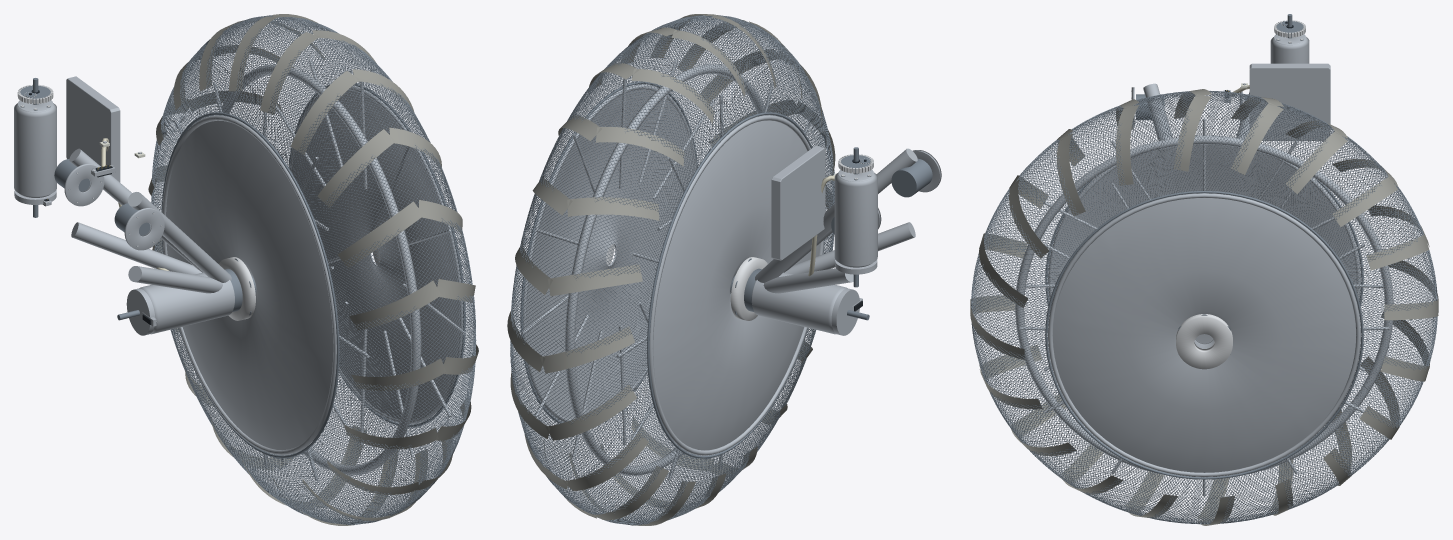
Rendered from lrv-wheels.glb.
3 renders of one model, left to right at view 1: azimuth 30°, elevation 25°; view 2: azimuth 150°, elevation 25°; view 3: azimuth 270°, elevation 25°, orthographic. The views are drawn at different scales.
Parts seen in each view (by area): view 1: WHEEL_MESH_Steel_fixings, WHEEL_INNER_DISK_Machined_aluminium, WHEEL_OUTER_DISK_Machined_aluminium, WHEEL_TRACTION_Titanium_traction_bands, WHEEL_BUMP_STOP_Machined_aluminium, SUSPENSION_MOUNT_Machined_aluminium, WHEEL_HUB_Machined_aluminium, AXLE_STEERING_MOUNT_Machined_aluminium, WHEEL_HUB_Steel_fixings, STEERING_MOTOR_REMOVABLE_SHELL_Machined_aluminium, DRIVE_MOTOR_REMOVABLE_SHELL_Machined_aluminium, BORED_FLANGE_7_Machined_aluminium (+5 smaller); view 2: WHEEL_MESH_Steel_fixings, WHEEL_INNER_DISK_Machined_aluminium, WHEEL_OUTER_DISK_Machined_aluminium, WHEEL_TRACTION_Titanium_traction_bands, WHEEL_BUMP_STOP_Machined_aluminium, AXLE_STEERING_MOUNT_Machined_aluminium, WHEEL_HUB_Machined_aluminium, SUSPENSION_MOUNT_Machined_aluminium, STEERING_MOTOR_FIXED_SHELL_Machined_aluminium, DRIVE_MOTOR_FIXED_SHELL_Machined_aluminium, WHEEL_HUB_Steel_fixings, SUSPENSION_MOUNT_Steel_fixings (+3 smaller); view 3: WHEEL_MESH_Steel_fixings, WHEEL_OUTER_DISK_Machined_aluminium, WHEEL_TRACTION_Titanium_traction_bands, WHEEL_INNER_DISK_Machined_aluminium, WHEEL_BUMP_STOP_Machined_aluminium, WHEEL_HUB_Machined_aluminium, AXLE_STEERING_MOUNT_Machined_aluminium, WHEEL_HUB_Steel_fixings, WHEEL_OUTER_DISK_Machined_edge, SUSPENSION_MOUNT_Machined_aluminium, STEERING_MOTOR_FIXED_SHELL_Machined_aluminium.
Part boxes in pixels (x1,y1,x2,y2): WHEEL_MESH_Steel_fixings: (151, 15, 476, 524); WHEEL_INNER_DISK_Machined_aluminium: (166, 120, 333, 450); WHEEL_OUTER_DISK_Machined_aluminium: (291, 90, 459, 419); WHEEL_TRACTION_Titanium_traction_bands: (148, 14, 478, 525); WHEEL_BUMP_STOP_Machined_aluminium: (175, 59, 465, 480); SUSPENSION_MOUNT_Machined_aluminium: (69, 148, 231, 293); WHEEL_HUB_Machined_aluminium: (162, 86, 463, 455); AXLE_STEERING_MOUNT_Machined_aluminium: (66, 76, 120, 182); WHEEL_HUB_Steel_fixings: (161, 83, 465, 458); STEERING_MOTOR_REMOVABLE_SHELL_Machined_aluminium: (22, 104, 56, 197); DRIVE_MOTOR_REMOVABLE_SHELL_Machined_aluminium: (149, 280, 234, 334); BORED_FLANGE_7_Machined_aluminium: (124, 208, 164, 250); WHEEL_MESH_Steel_fixings: (510, 15, 834, 525); WHEEL_INNER_DISK_Machined_aluminium: (653, 120, 820, 450); WHEEL_OUTER_DISK_Machined_aluminium: (527, 89, 694, 419); WHEEL_TRACTION_Titanium_traction_bands: (507, 14, 835, 525); WHEEL_BUMP_STOP_Machined_aluminium: (521, 59, 811, 480); AXLE_STEERING_MOUNT_Machined_aluminium: (771, 145, 825, 260); WHEEL_HUB_Machined_aluminium: (523, 84, 823, 455); SUSPENSION_MOUNT_Machined_aluminium: (755, 148, 917, 293); STEERING_MOTOR_FIXED_SHELL_Machined_aluminium: (834, 172, 877, 267); DRIVE_MOTOR_FIXED_SHELL_Machined_aluminium: (751, 272, 845, 334); WHEEL_HUB_Steel_fixings: (520, 81, 824, 458); SUSPENSION_MOUNT_Steel_fixings: (730, 158, 932, 293); WHEEL_MESH_Steel_fixings: (971, 90, 1437, 524); WHEEL_OUTER_DISK_Machined_aluminium: (1053, 198, 1355, 472); WHEEL_TRACTION_Titanium_traction_bands: (970, 89, 1438, 525); WHEEL_INNER_DISK_Machined_aluminium: (1052, 144, 1356, 343); WHEEL_BUMP_STOP_Machined_aluminium: (1015, 118, 1393, 496); WHEEL_HUB_Machined_aluminium: (1048, 154, 1360, 476); AXLE_STEERING_MOUNT_Machined_aluminium: (1249, 63, 1330, 140); WHEEL_HUB_Steel_fixings: (1045, 135, 1363, 479); WHEEL_OUTER_DISK_Machined_edge: (1176, 314, 1232, 369); SUSPENSION_MOUNT_Machined_aluminium: (1143, 83, 1249, 140); STEERING_MOTOR_FIXED_SHELL_Machined_aluminium: (1282, 37, 1309, 63).
Bounding box in the file's own units: 0.603 × 0.8215 × 0.8215.
